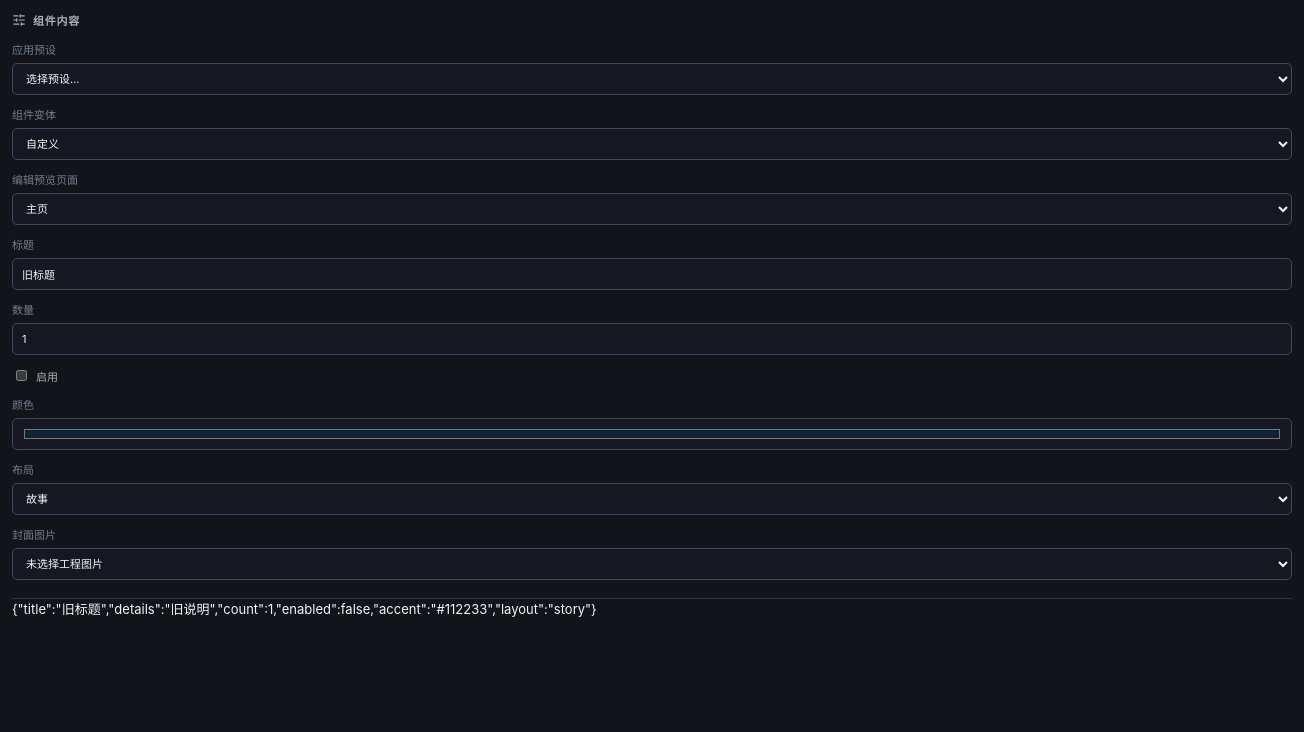
Scenario: ComponentPropertiesEditor › applies variants and presets as complete prop updates
Select "测验版" in the dropdown labelled "组件变体" at (652, 144), box x1=12 y1=128 x2=1292 y2=160
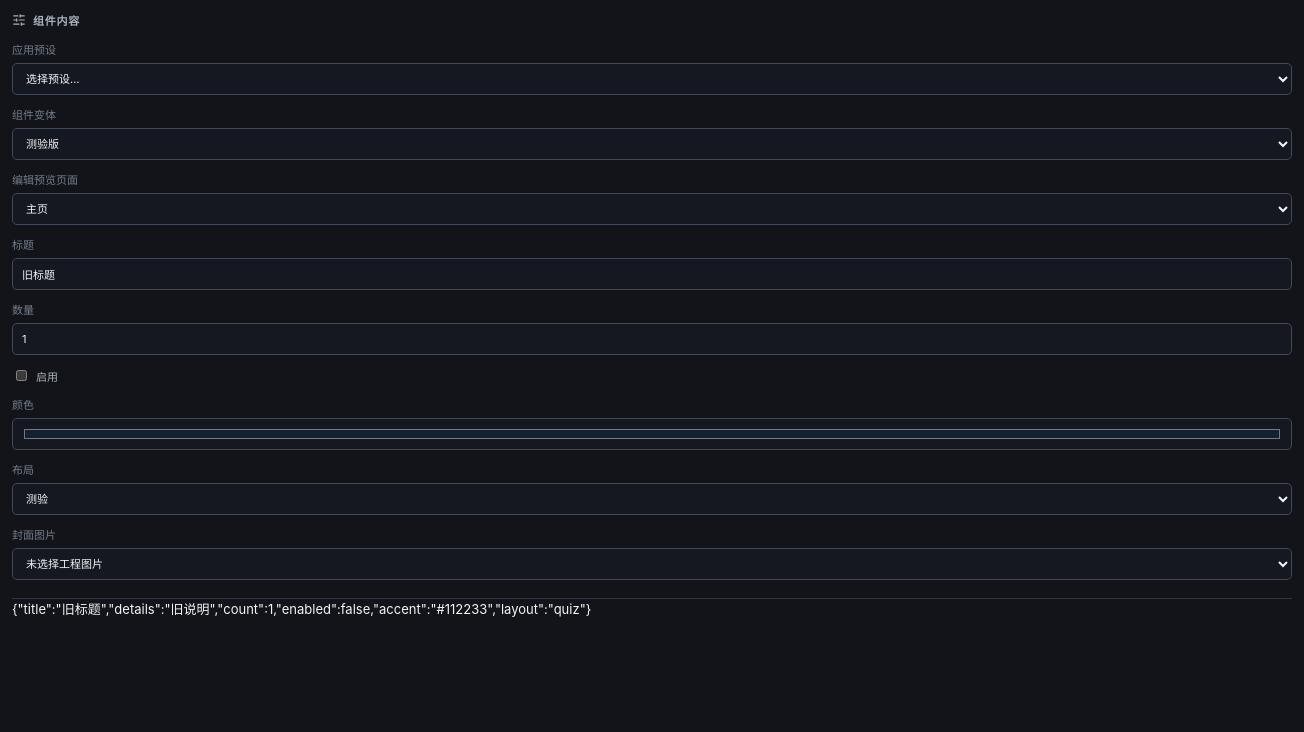
Check: the text with test id "props-value" shows "\"layout\":\"quiz\"", box x1=12 y1=601 x2=591 y2=617
Select "即用" in the dropdown named "应用组件预设" at (652, 79), box x1=12 y1=63 x2=1292 y2=95
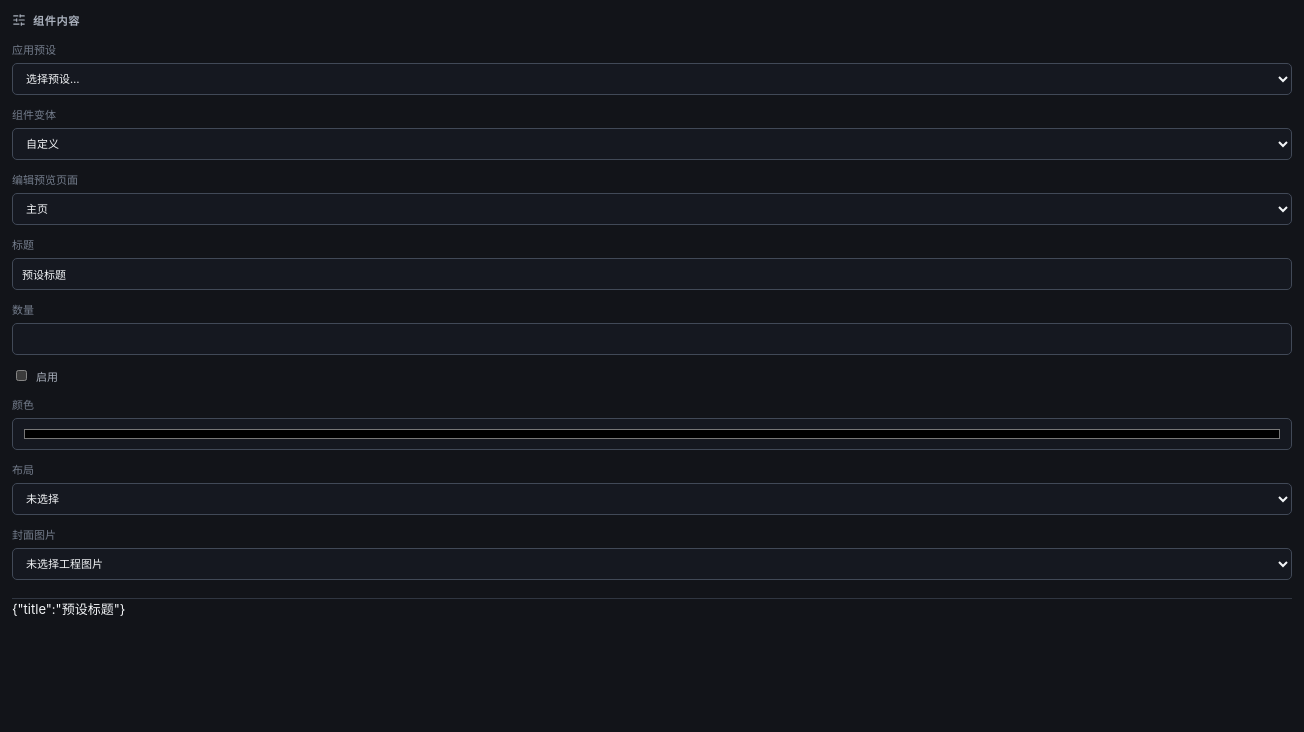
Check: the text with test id "props-value" shows "\"title\":\"预设标题\"", box x1=12 y1=601 x2=125 y2=617
